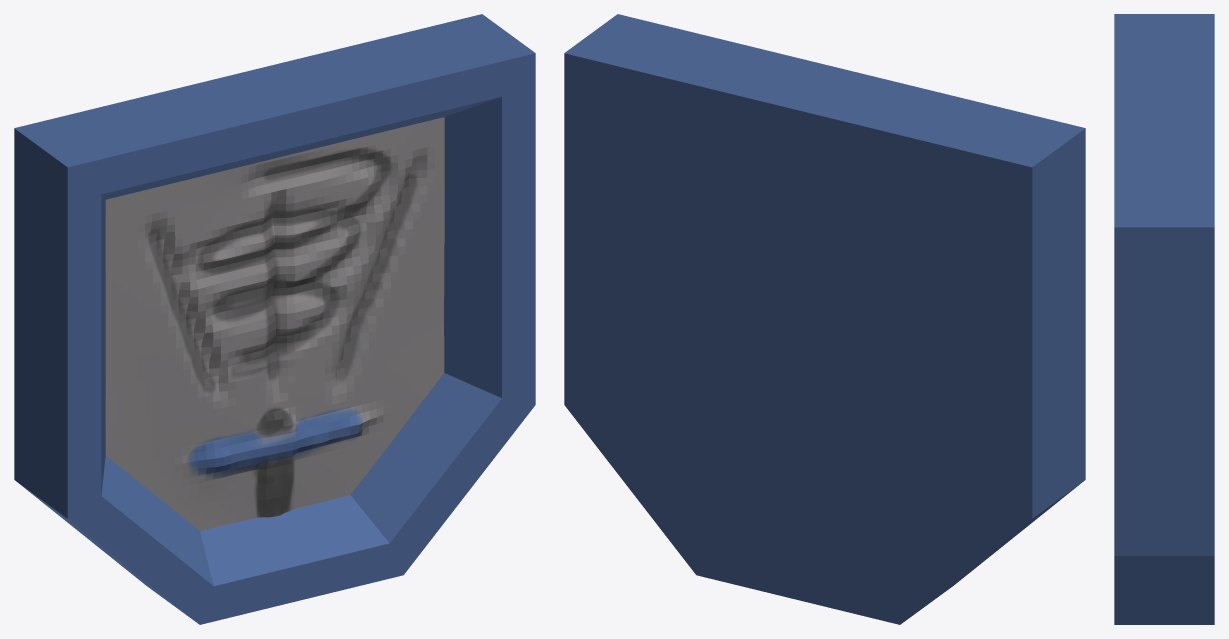
The model's file is UpdraftIcon.fbx.
3 renders of one model, left to right at view 1: azimuth 30°, elevation 25°; view 2: azimuth 150°, elevation 25°; view 3: azimuth 270°, elevation 25°, orthographic. The views are drawn at different scales.
Parts seen in each view (by area): view 1: Cube, Grid; view 2: Cube; view 3: Cube.
Part boxes in pixels (x1,y1,x2,y2): Cube: (14,14,535,624); Grid: (105,117,444,530); Cube: (564,14,1085,624); Cube: (1114,14,1214,624).
Size of the model in its own units: 200 by 200 by 39.67.
